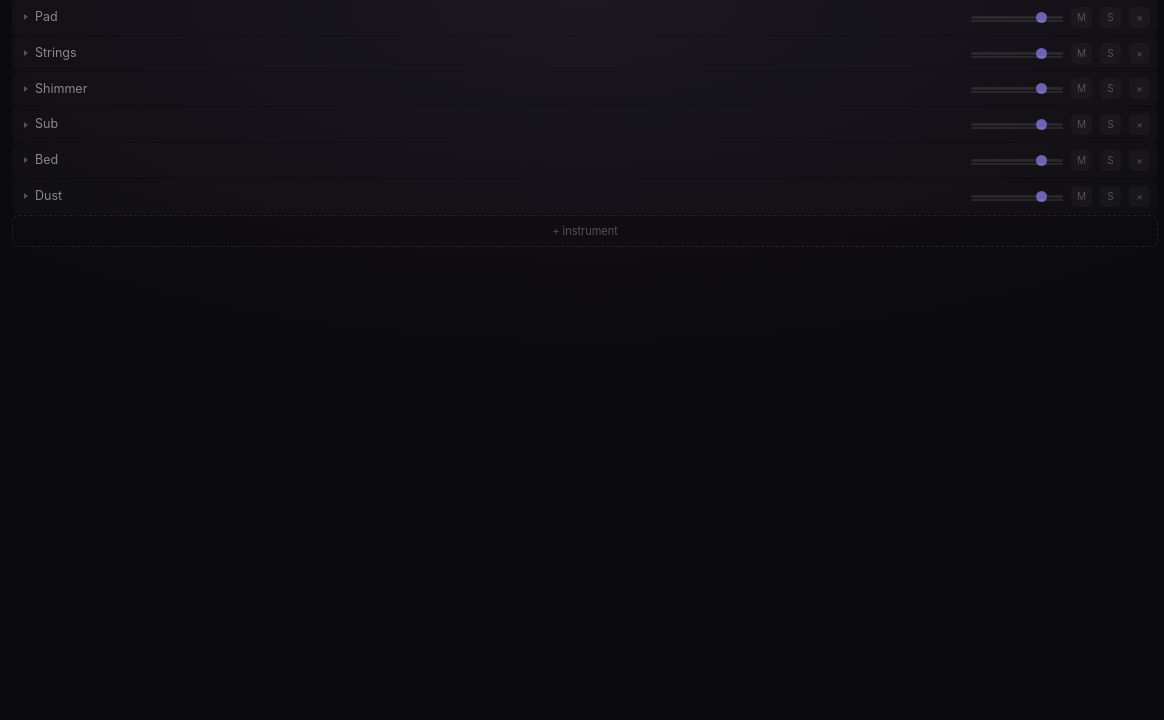
Test: RackView open slot › shows the instrument blurb and the rules currently firing
Click the button with class "slot-name" showing "Pad" at (26, 17), box [20,5,963,30]
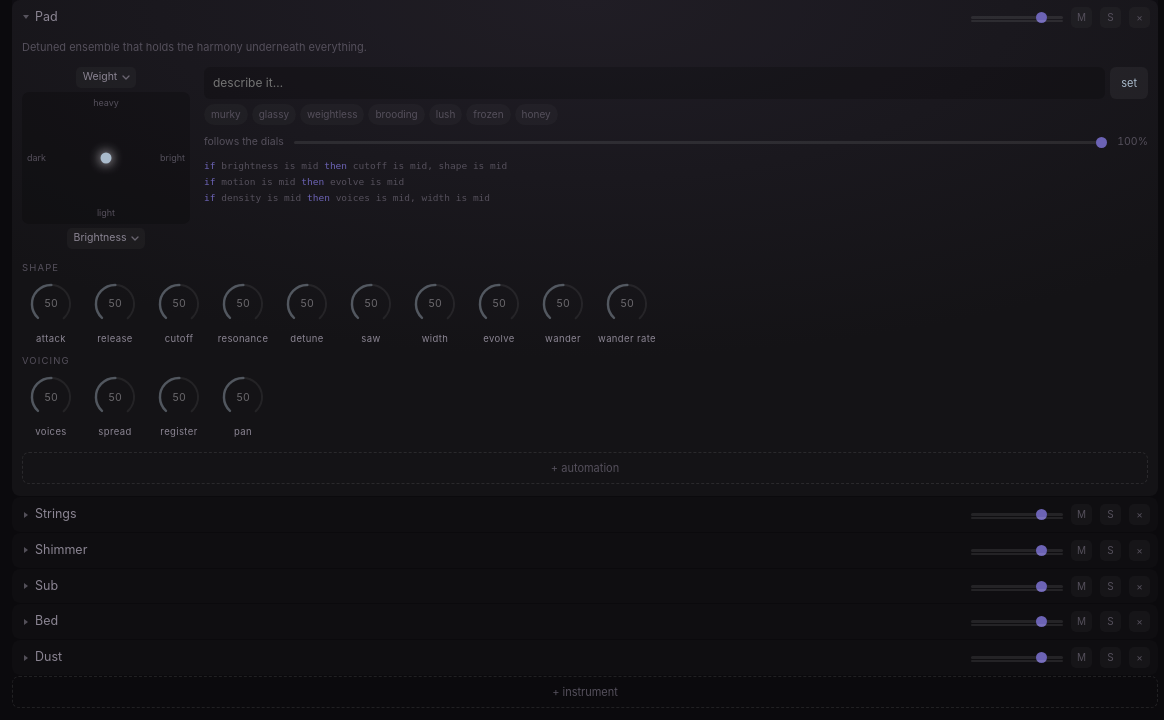
Expected: the element with class "rule" reads "if brightness is mid then cutoff is mid, shape is mid", [204,160,507,171]
